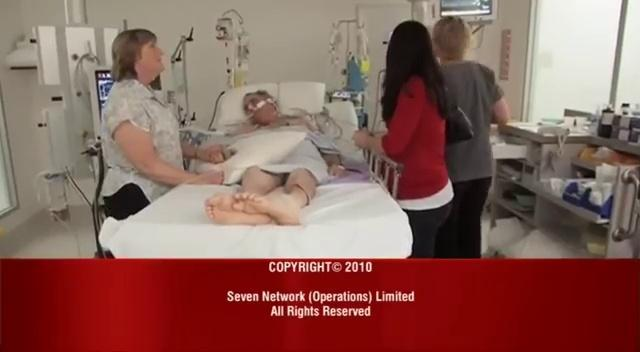others: (350, 19, 467, 257), (98, 27, 226, 220), (428, 15, 511, 257)
patient: (200, 91, 351, 232)
